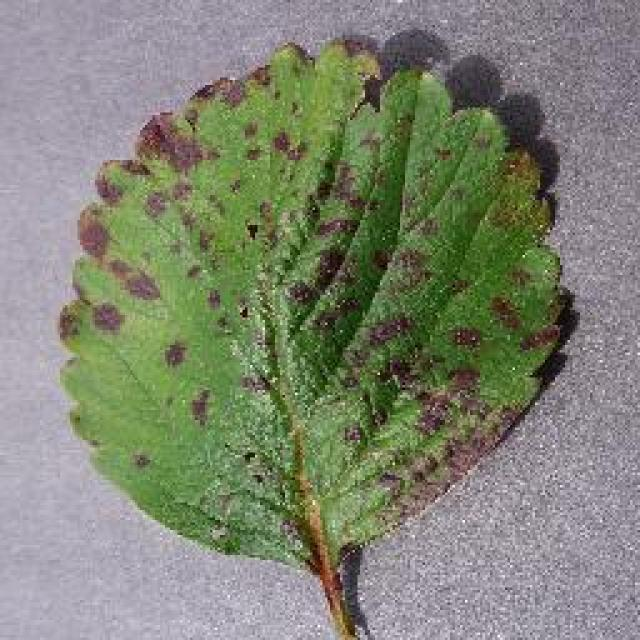Strawberry leaf scorch: (144, 125, 478, 442)
